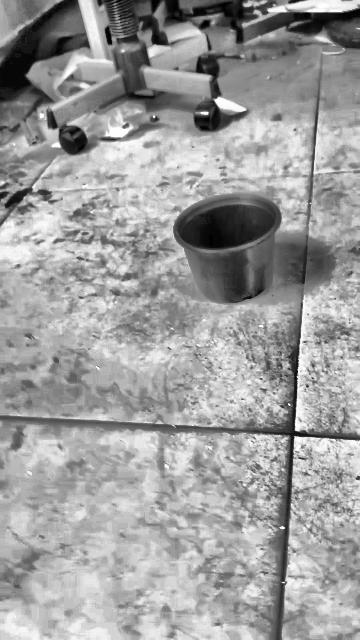pot: (174, 194, 281, 303)
